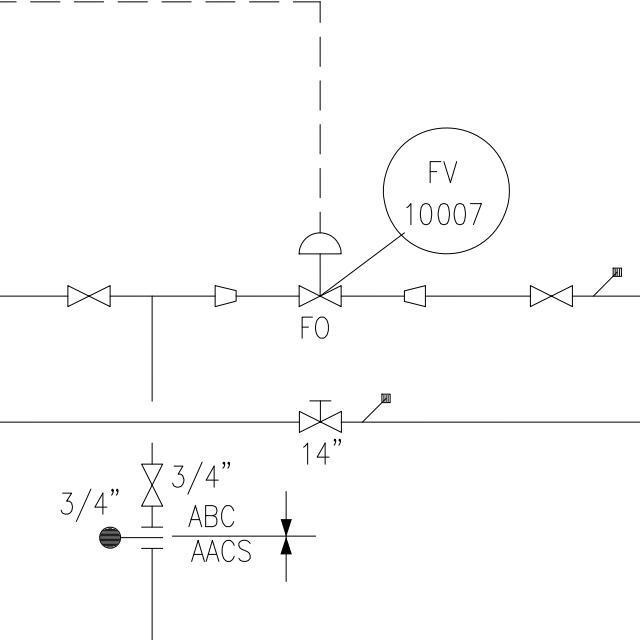FC: (292, 227, 346, 313)
GV: (135, 456, 167, 511), (59, 282, 119, 311), (523, 283, 577, 311)
HV: (295, 396, 347, 437)
SP: (399, 280, 430, 309), (209, 282, 242, 309)
